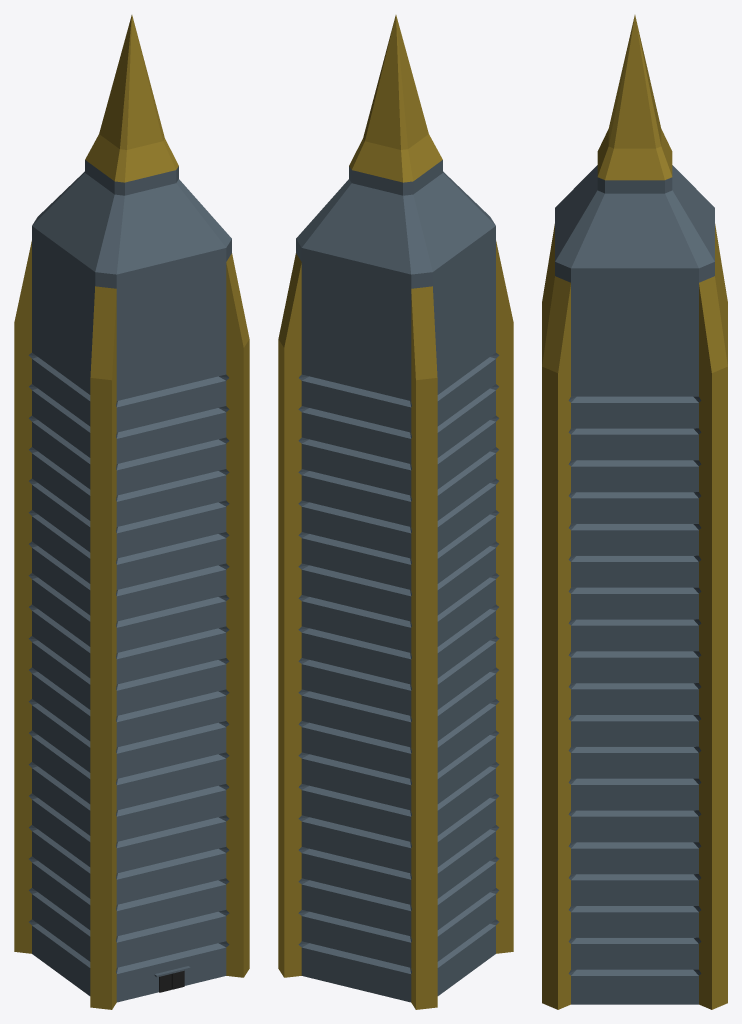
File: Building_MegaSkyscraper.fbx
3 renders of one model, left to right at view 1: azimuth 30°, elevation 25°; view 2: azimuth 150°, elevation 25°; view 3: azimuth 270°, elevation 25°, orthographic.
Parts seen in each view (by area): view 1: Skyscraper; view 2: Skyscraper; view 3: Skyscraper.
Part boxes in pixels (<box>): Skyscraper: <box>14,15,249,1009</box>; Skyscraper: <box>278,15,513,1009</box>; Skyscraper: <box>542,15,727,1009</box>.
Bounding box in the file's own units: 5.25 × 29.85 × 5.25.
